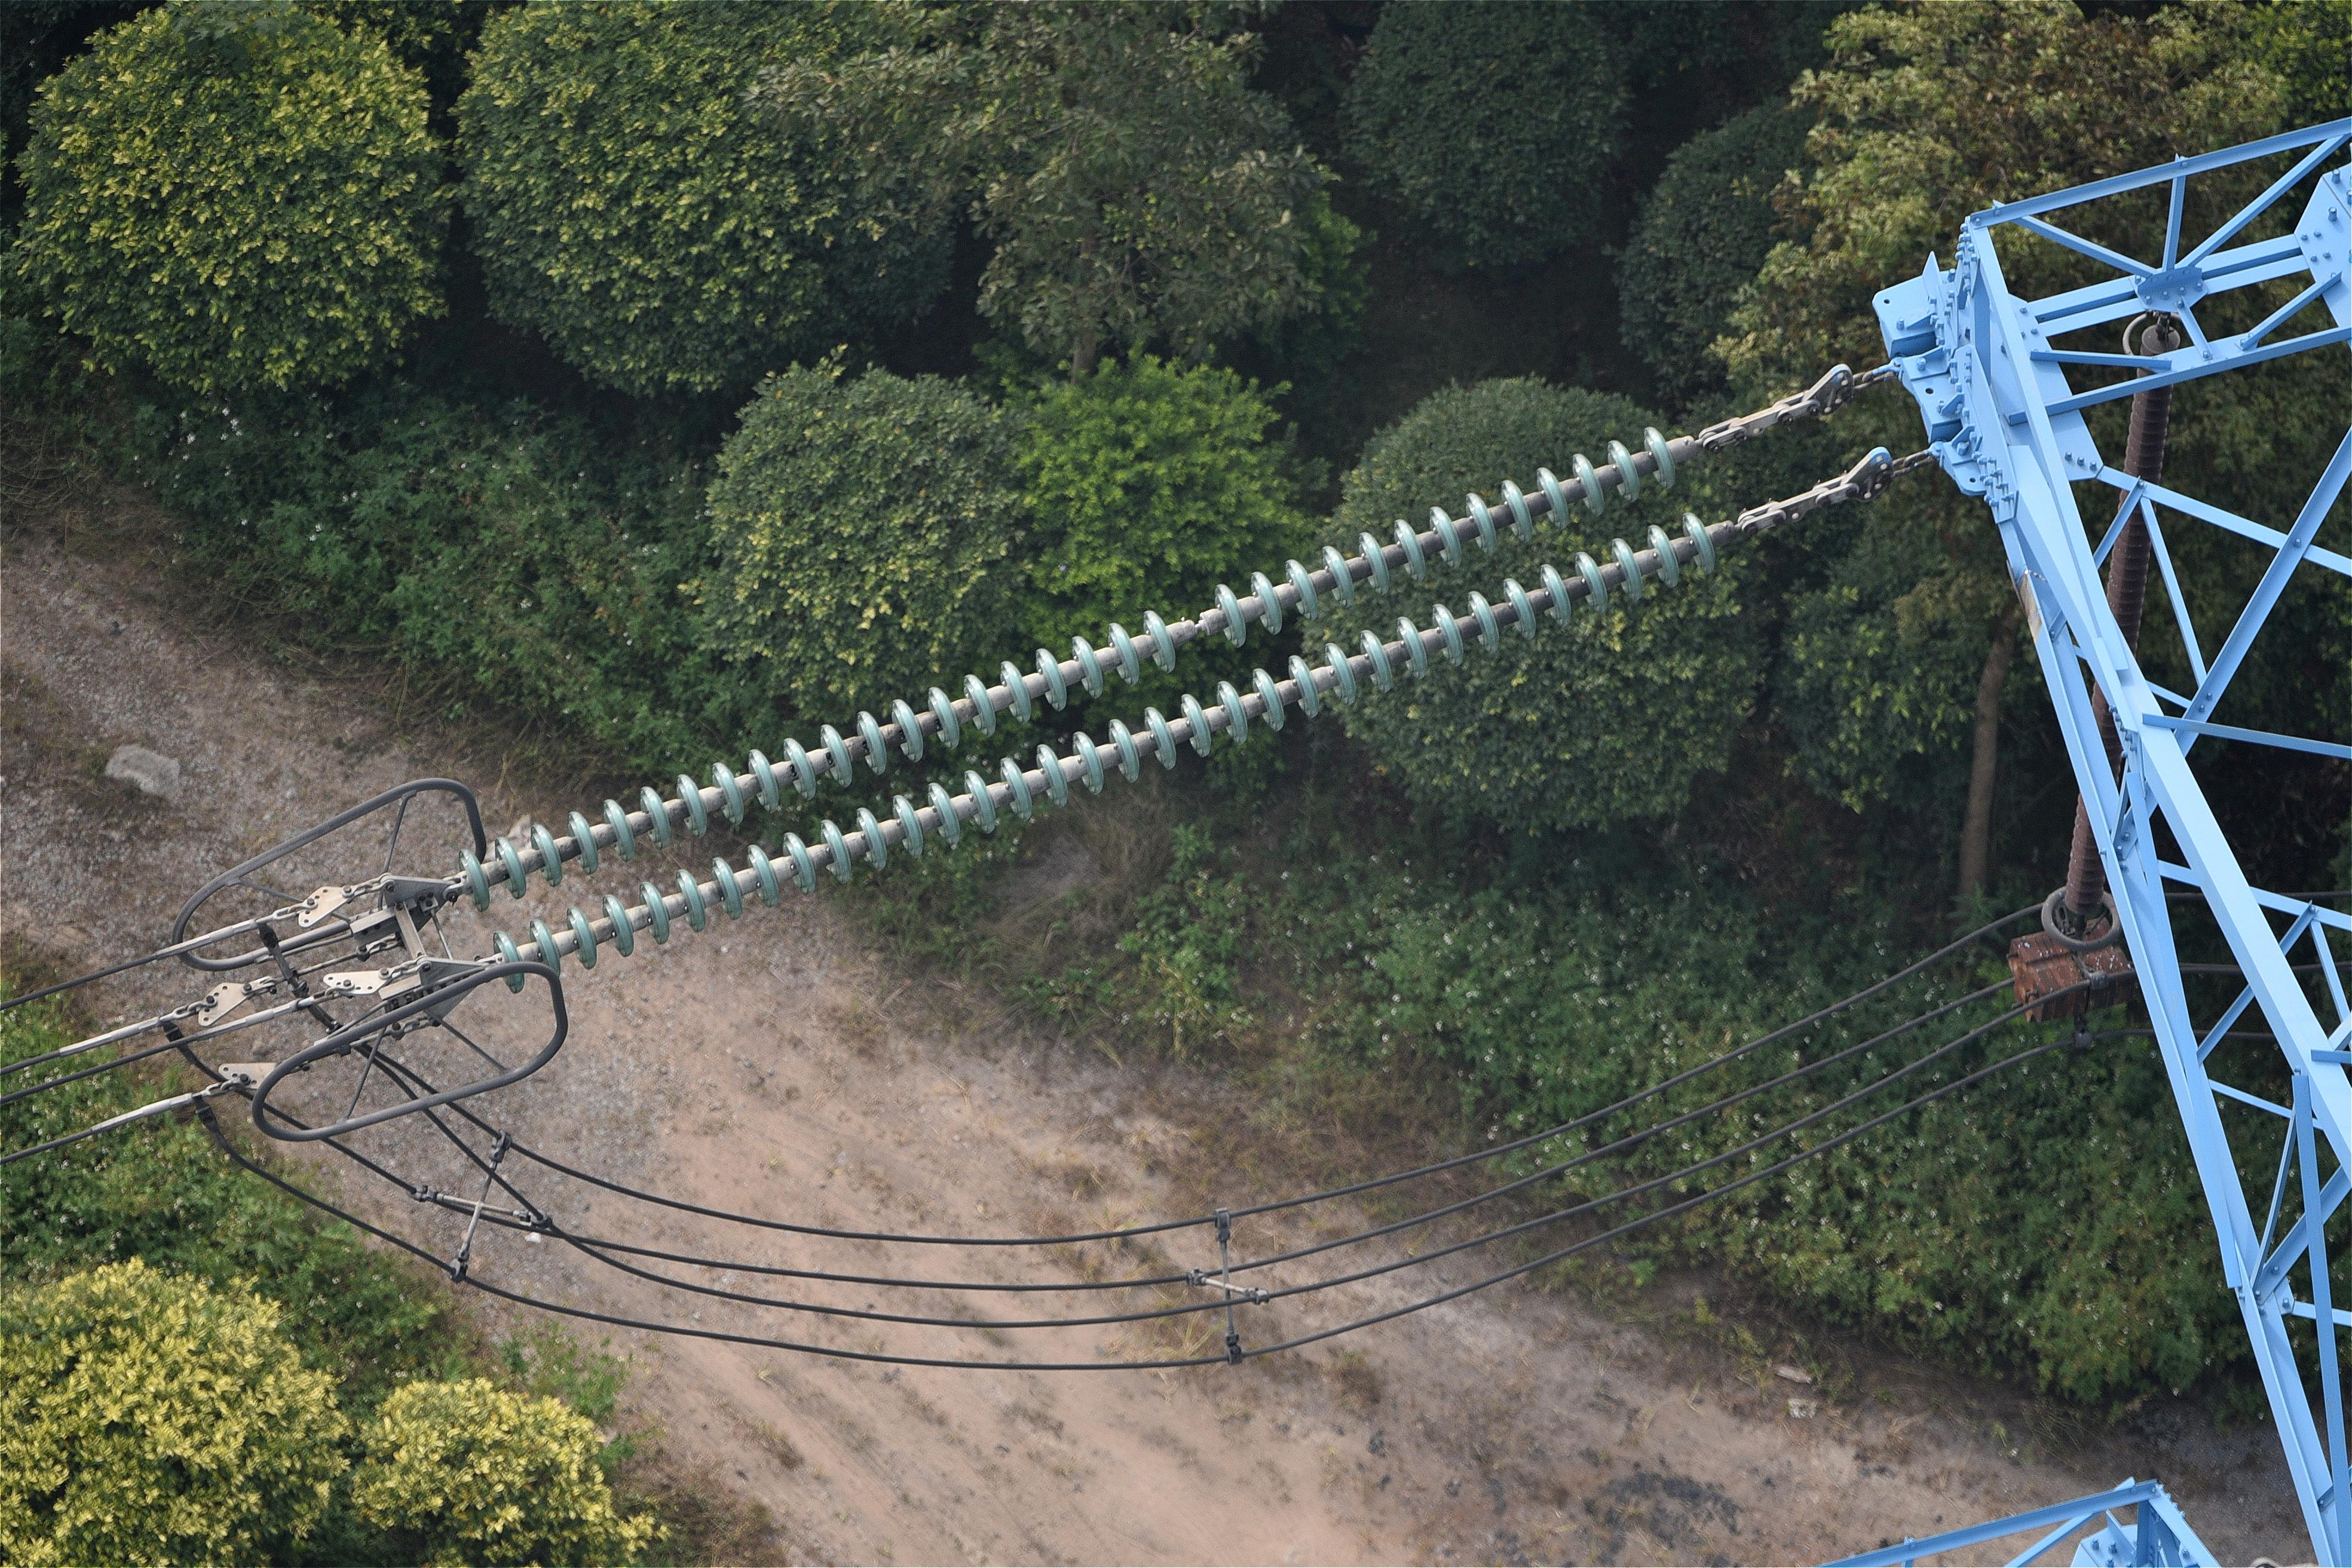insultor3: (425, 399, 1745, 1039)
